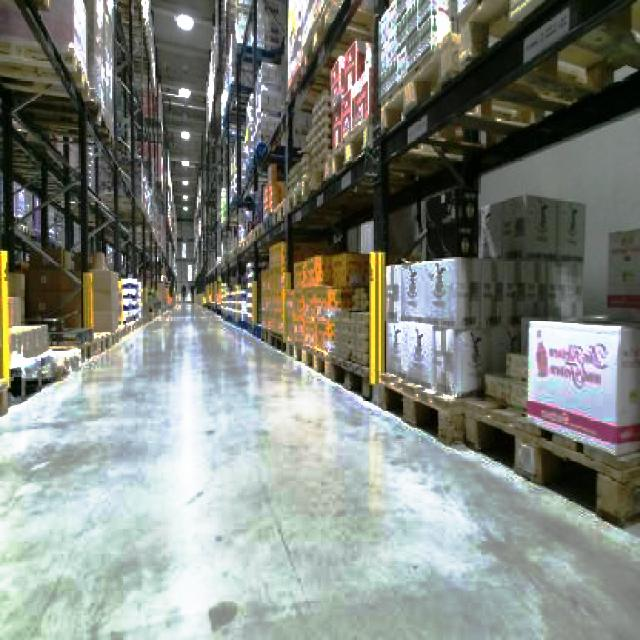ground: (0, 298, 638, 638)
pallet: (194, 0, 638, 535), (246, 240, 638, 529), (375, 368, 638, 528), (0, 228, 146, 426), (254, 242, 382, 400)
